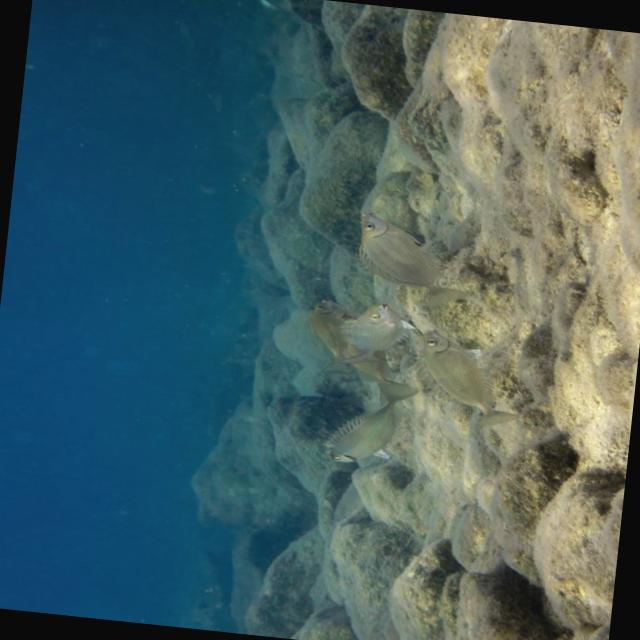Sokar Baligi: (336, 197, 494, 310), (308, 365, 434, 478)
